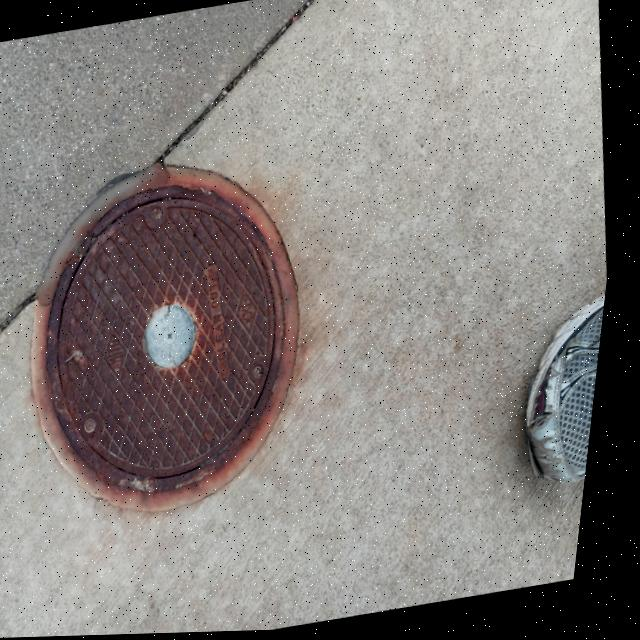corrosion: (55, 186, 293, 479)
